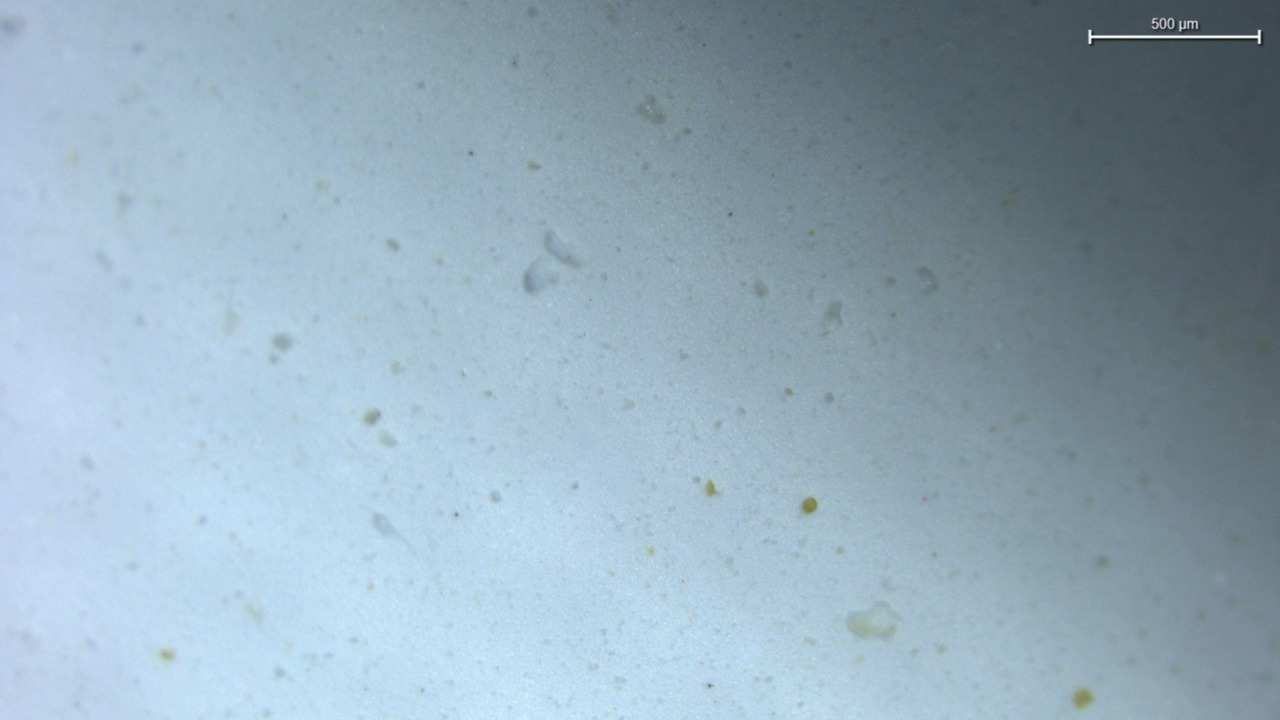microplastic_fragment: (544, 230, 584, 268), (522, 259, 558, 293)
